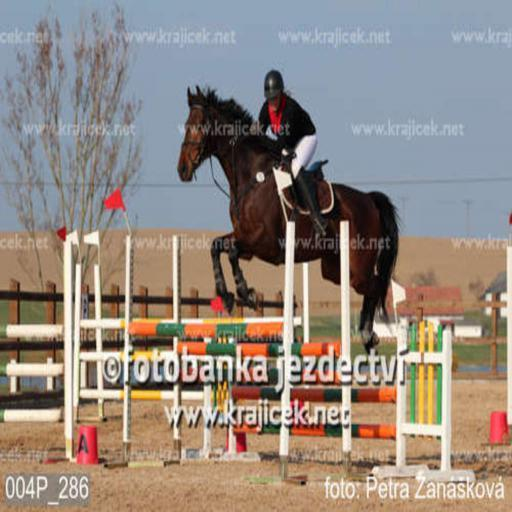horse: (174, 83, 405, 360)
